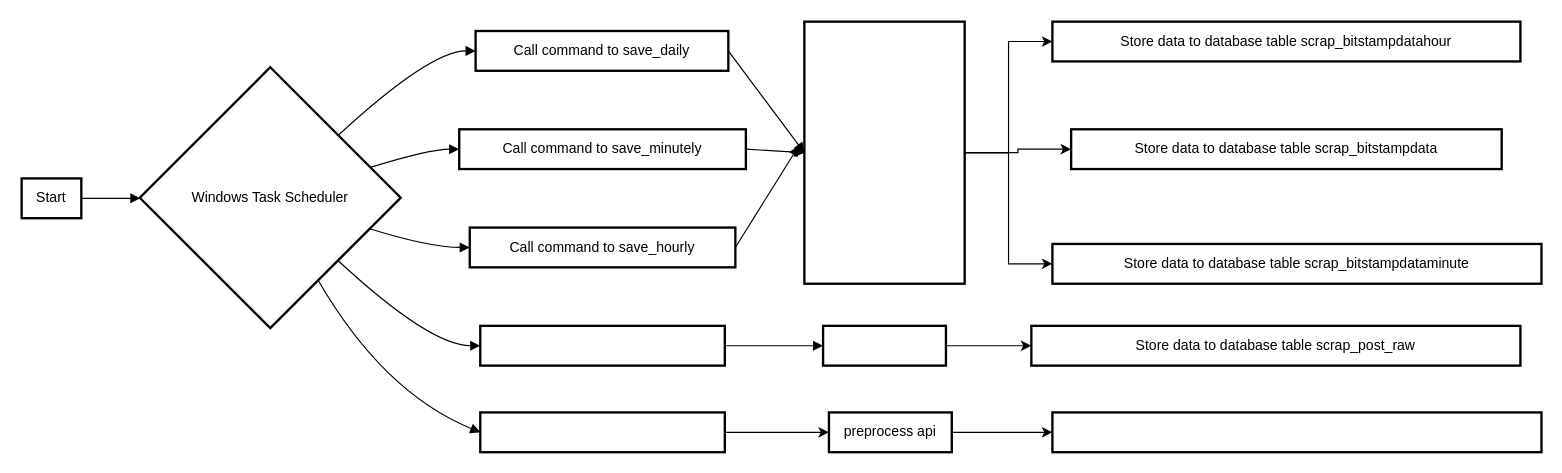
This 1562x473 diagram has some shape labels left out. Here are the shapes that lost their labels. From the top down, the centre of each, then its label:
At [884,152]: "Call Bitstamp API Process the data".
At [602,345]: "Call command scrap_today".
At [884,345]: "Scrap top 10-1000 API".
At [602,432]: "Call command preprocess".
At [1296,432]: "Store data to database table scrap_post_proccessed with sentiment score".
